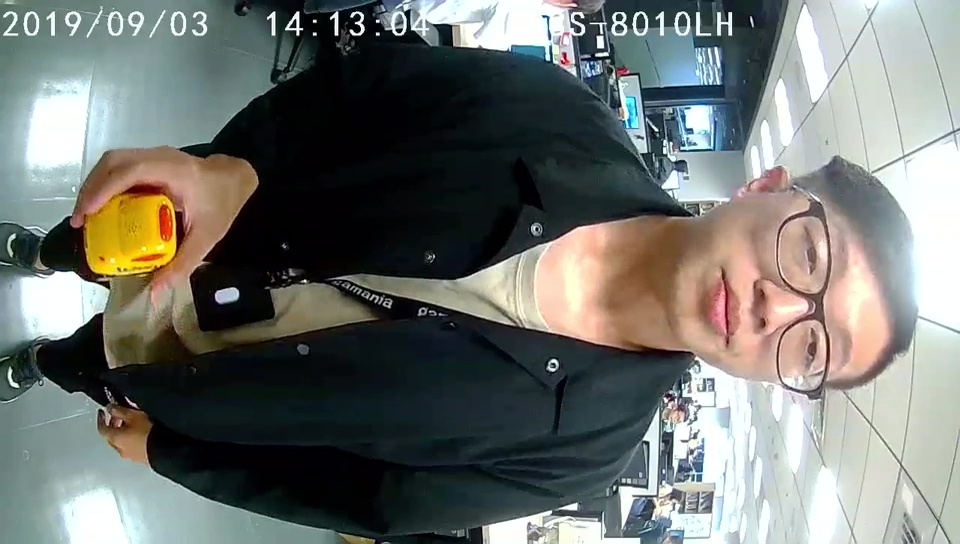car: (87, 185, 178, 274)
